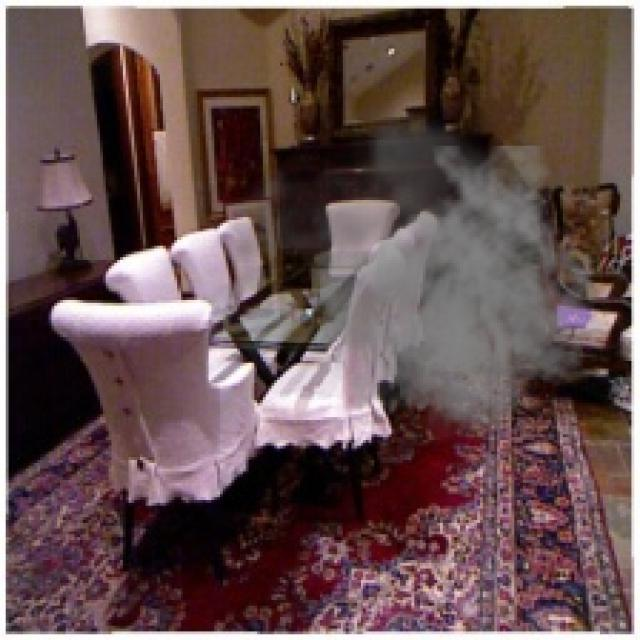Smoke: (217, 102, 606, 452)
